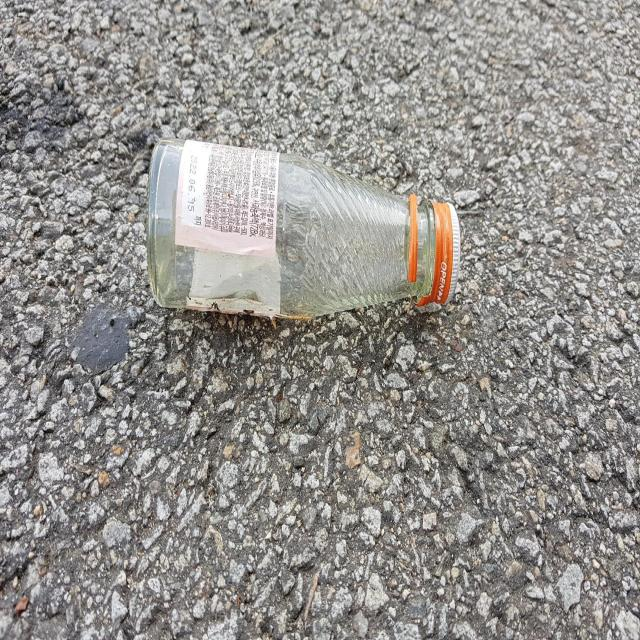glass: (147, 139, 460, 318)
